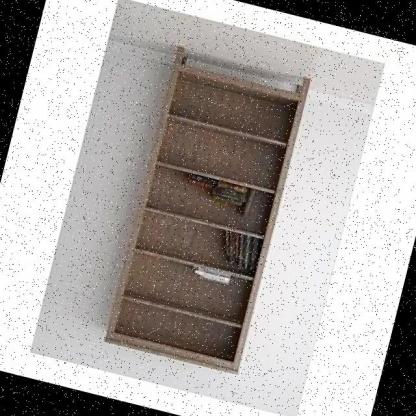Shelf: (99, 40, 316, 380)
